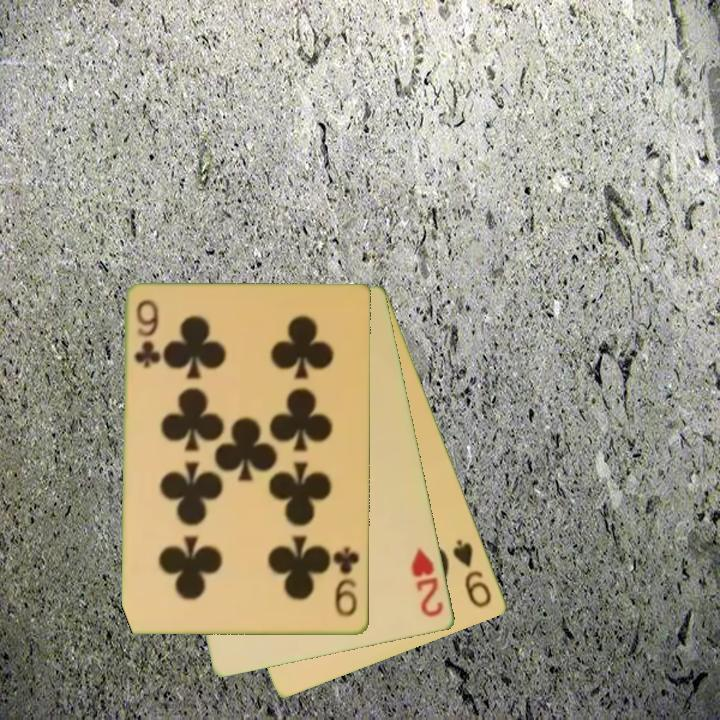2h: (408, 544, 447, 621)
9c: (331, 544, 363, 620), (131, 297, 161, 371)
9s: (449, 535, 495, 611)
